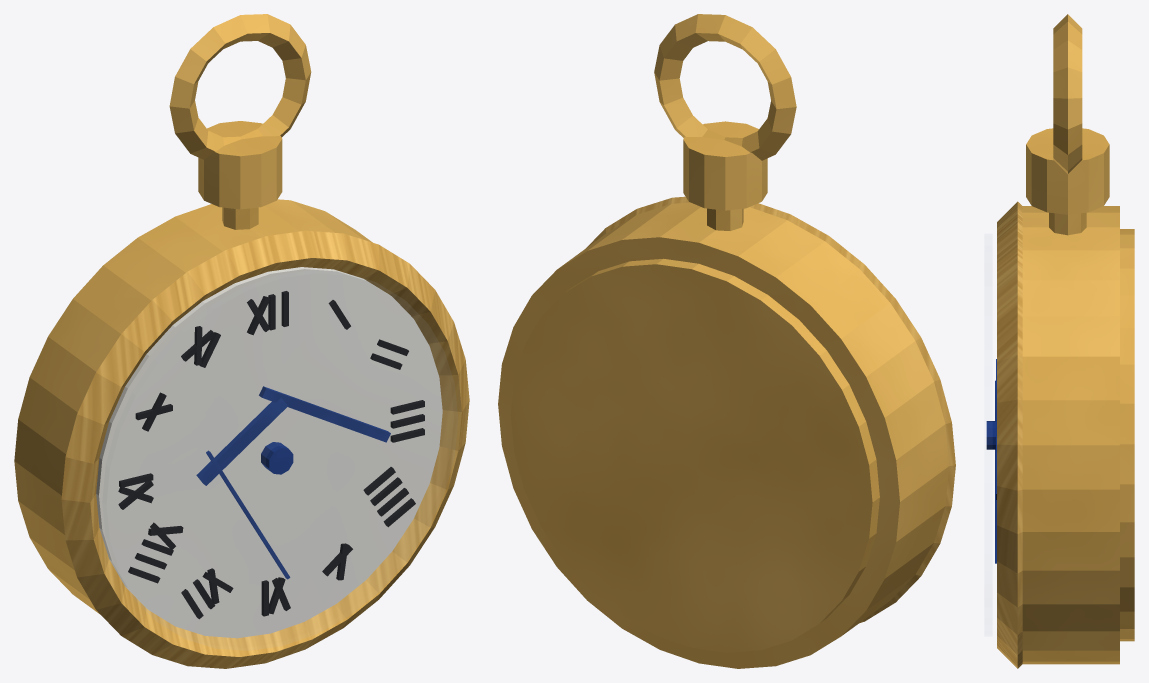
The model's file is mdl_reloj_bolsillo.fbx.
The picture shows the model from 3 angles, left to right: view 1: azimuth 30°, elevation 25°; view 2: azimuth 150°, elevation 25°; view 3: azimuth 270°, elevation 25°; orthographic projection.
Parts seen in each view (by area): view 1: esmalte_blanco, metal_oro_pulido, metal_oro_cepillado, esmalte_negro, esmalte_azul; view 2: metal_oro_pulido, metal_oro_cepillado; view 3: metal_oro_pulido, metal_oro_cepillado, esmalte_azul.
Boxes of the visible parts, x1,y1,x2,y2 form: esmalte_blanco: [96, 267, 442, 638]; metal_oro_pulido: [14, 14, 372, 613]; metal_oro_cepillado: [61, 230, 469, 668]; esmalte_negro: [118, 291, 424, 619]; esmalte_azul: [196, 386, 390, 579]; metal_oro_pulido: [498, 14, 949, 668]; metal_oro_cepillado: [586, 196, 955, 623]; metal_oro_pulido: [1022, 14, 1134, 664]; metal_oro_cepillado: [997, 201, 1022, 668]; esmalte_azul: [986, 359, 996, 563].
Bounding box in the file's own units: 112 × 166 × 36.
